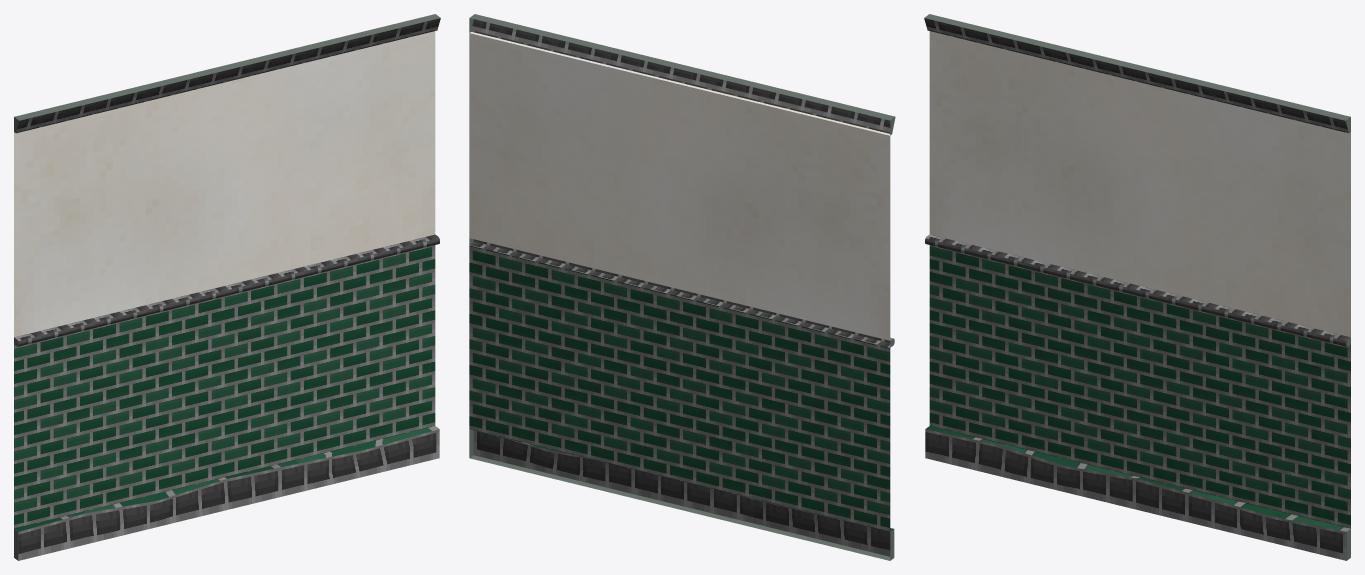
The model's file is Wall.Bathroom.glb.
3 views of the same model, side by side, from view 1: azimuth 30°, elevation 25°; view 2: azimuth 150°, elevation 25°; view 3: azimuth 330°, elevation 25° (orthographic).
Parts seen in each view (by area): view 1: Wall.Batthroom; view 2: Wall.Batthroom; view 3: Wall.Batthroom.
Part boxes in pixels (box(x1,y1,x2,y2)): Wall.Batthroom: box(14, 14, 440, 560); Wall.Batthroom: box(469, 14, 895, 560); Wall.Batthroom: box(924, 14, 1350, 560).
Size of the model in its own units: 3 by 3 by 0.0671.
3 materials, 3 textured.
